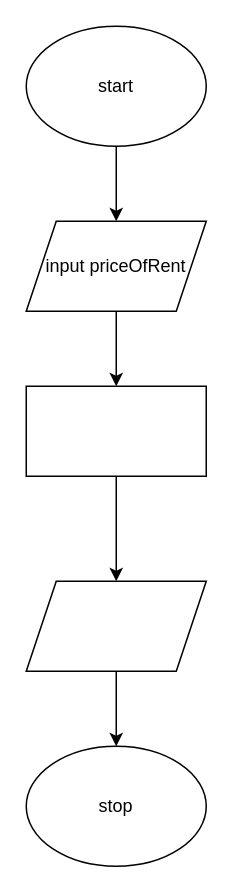
This 233x893 diagram has some shape labels left out. The centre of each missing label's shape, as x and y in pixels:
dailyCostOfRent = priceOfRent / 30: pixel 115 430
output dailyCostOfRent: pixel 115 625
